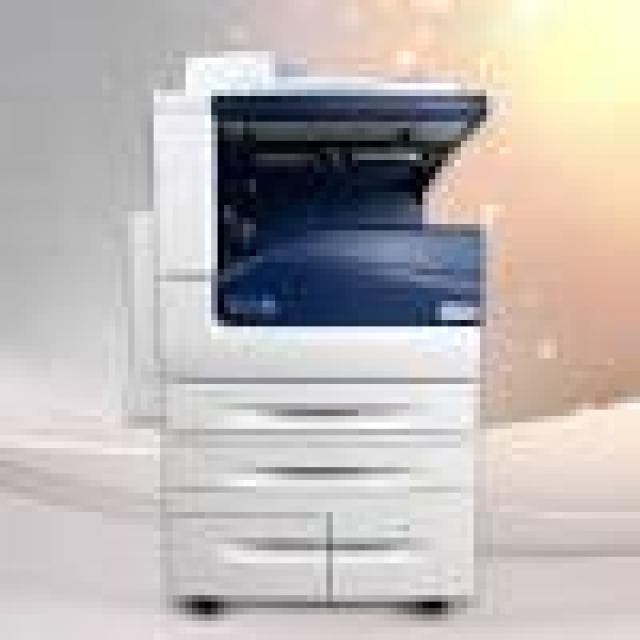printer: (84, 15, 565, 635)
